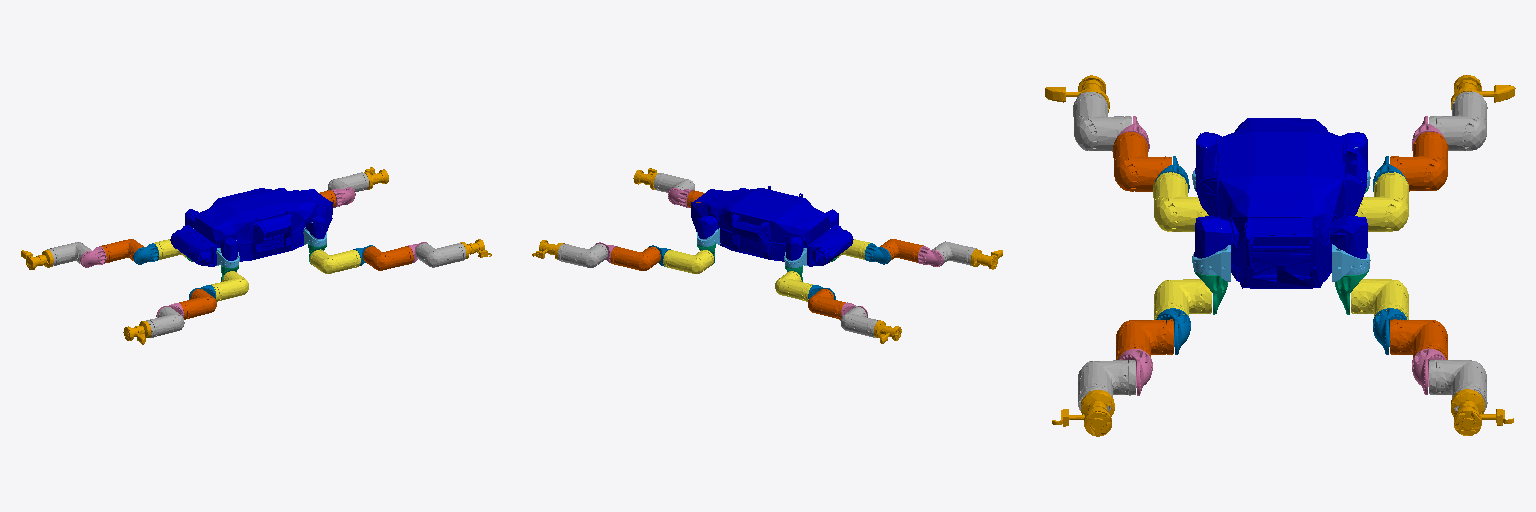
--- Render facts (derived) ---
The picture shows the robot from 3 angles, left to right: view 1: azimuth 30°, elevation 25°; view 2: azimuth 150°, elevation 25°; view 3: azimuth 270°, elevation 25°; orthographic projection.
Model robosimian_caesar with 33 links and 32 joints (28 revolute, 4 fixed), rooted at torso, posed every joint at zero.
Links seen in each view (by area): view 1: torso, limb1_link2, limb1_link4, limb1_link6, limb2_link6, limb2_link2, limb2_link4, limb3_link6, limb3_link4, limb4_link6; view 2: torso, limb4_link2, limb4_link4, limb4_link6, limb3_link6, limb3_link2, limb3_link4, limb2_link6, limb2_link4, limb1_link6; view 3: torso, limb2_link4, limb2_link6, limb3_link6, limb3_link4, limb3_link2, limb2_link2, limb1_link6, limb4_link6, limb4_link4, limb1_link4, limb4_link2 (+13 smaller).
Link boxes in pixels (box(x1,y1,x2,y2)): torso: box(170, 188, 332, 266); limb1_link2: box(310, 249, 360, 273); limb1_link4: box(363, 246, 413, 270); limb1_link6: box(416, 243, 465, 267); limb2_link6: box(146, 307, 184, 337); limb2_link2: box(211, 271, 248, 301); limb2_link4: box(179, 289, 216, 319); limb3_link6: box(47, 242, 91, 266); limb3_link4: box(101, 239, 144, 262); limb4_link6: box(328, 172, 368, 191); torso: box(691, 186, 853, 266); limb4_link2: box(663, 250, 713, 273); limb4_link4: box(610, 247, 660, 270); limb4_link6: box(558, 244, 607, 267); limb3_link6: box(840, 306, 878, 337); limb3_link2: box(775, 271, 812, 301); limb3_link4: box(808, 289, 845, 319); limb2_link6: box(932, 241, 976, 265); limb2_link4: box(880, 239, 923, 262); limb1_link6: box(654, 173, 694, 192); torso: box(1194, 118, 1367, 288); limb2_link4: box(1113, 132, 1171, 191); limb2_link6: box(1073, 92, 1131, 151); limb3_link6: box(1429, 91, 1487, 150); limb3_link4: box(1390, 132, 1448, 191); limb3_link2: box(1355, 172, 1408, 231); limb2_link2: box(1153, 172, 1208, 231); limb1_link6: box(1078, 360, 1135, 411); limb4_link6: box(1429, 360, 1487, 411); limb4_link4: box(1390, 319, 1447, 359); limb1_link4: box(1116, 319, 1173, 359); limb4_link2: box(1351, 279, 1408, 319).
Bounding box of the posed robot: 2.39 × 1.41 × 0.3943 m (x, y, z).
33 mesh visuals loaded from 6 distinct referenced files (6 binary STL).

robot.urdf — robosimian_caesar:
<robot name="robosimian_caesar">
   <link name="torso">
      <inertial>
        <mass value="40.000000" />
        <origin xyz="-0.000820 -0.002060 -0.021800" rpy="0 0 0" />
        <inertia ixx="0.248970" ixy="0.000000" ixz="0.000000" iyy="0.703230" iyz="0.001820" izz="0.772560" />
      </inertial>
      <visual>
        <origin xyz="0 0 0" rpy="3.1415926 0 0" />
        <geometry>
           <mesh filename="stl_0_3/robosim_chassis.stl" scale="1 1 1" />
        </geometry>
        <material name="blue">
	      <color rgba="0 0 .8 1" />
        </material>
      </visual>
      <collision group="default">
        <origin rpy="3.1415926 0 0" xyz="0 0 0"/>
        <geometry>
           <box size="0.257 0.50 0.238"/>
        </geometry>
      </collision>
      <collision group="default">
        <origin rpy="3.1415926 0 0" xyz="0 0 0"/>
        <geometry>
           <box size="0.93 0.230 0.238"/>
        </geometry>
      </collision>
      <collision group="default">
        <origin rpy="3.1415926 0 -0.38153" xyz="0.25393 0.075769 0"/>
        <geometry>
           <box size="0.36257 0.23 0.238"/>
        </geometry>
      </collision>
      <collision group="default">
        <origin rpy="3.1415926 0 0.38153" xyz="-0.25393 0.075769 0"/>
        <geometry>
           <box size="0.36257 0.23 0.238"/>
        </geometry>
      </collision>
      <collision group="default">
        <origin rpy="3.1415926 0 0.38153" xyz="0.25393 -0.075769 0"/>
        <geometry>
           <box size="0.36257 0.23 0.238"/>
        </geometry>
      </collision>
      <collision group="default">
        <origin rpy="3.1415926 0 -0.38153" xyz="-0.25393 -0.075769 0"/>
        <geometry>
           <box size="0.36257 0.23 0.238"/>
        </geometry>
      </collision>
      <collision group="default">
        <origin rpy="3.1415926 -0.383972 0.000000" xyz="0.417050 0.000000 -0.158640"/>
        <geometry>
          <cylinder length="0.144" radius="0.05"/>
        </geometry>
      </collision>
   </link>

   <link name="limb1_link0">
      <inertial>
        <mass value="0.000000" />
        <origin xyz="0.000000 0.000000 0.000000" rpy="0 0 0" />
        <inertia ixx="0.000000" ixy="0.000000" ixz="0.000000" iyy="0.000000" iyz="0.000000" izz="0.000000" />
      </inertial>
      <visual>
        <origin xyz="0.000000 0 0" rpy="0 0 0" />
        <geometry>
           <mesh filename="stl_0_3/robosim_fts.stl" scale="1 1 1" />
        </geometry>
      </visual>
      <collision group="default">
        <origin rpy="3.1415 -1.57080 0" xyz="-.025 0 0"/>
        <geometry>
          <cylinder length="0.145" radius="0.05"/>
        </geometry>
      </collision>
   </link>

   <link name="limb1_link1">
      <inertial>
        <mass value="0.429000" />
        <origin xyz="-0.050402 0.012816 0.000000" rpy="0 0 0" />
        <inertia ixx="0.000741" ixy="-0.000215" ixz="0.000000" iyy="0.002044" iyz="0.000000" izz="0.001885" />
      </inertial>
      <visual>
        <origin xyz="0.000000 0 0" rpy="0 0 0" />
        <geometry>
           <mesh filename="stl_0_3/robosim_pitch_link.stl" scale="1 1 1" />
        </geometry>
      </visual>
      <collision group="default">
        <origin rpy="3.1415 -1.57080 0" xyz="-0.07 0 0"/>
        <geometry>
          <cylinder length="0.07" radius="0.055"/>
        </geometry>
      </collision>
   </link>

   <link name="limb1_link2">
      <inertial>
        <mass value="3.975000" />
        <origin xyz="0.067354 -0.096472 0.000262" rpy="0 0 0" />
        <inertia ixx="0.044712" ixy="-0.030354" ixz="0.000012" iyy="0.033445" iyz="-0.000141" izz="0.074293" />
      </inertial>
      <visual>
        <origin xyz="0.000000 0 0" rpy="0 0 0" />
        <geometry>
           <mesh filename="stl_0_3/robosim_roll_link.stl" scale="1 1 1" />
        </geometry>
      </visual>
      <collision group="default">
        <origin rpy="3.1415 -1.57080 0" xyz="0.065 -0.12 0"/>
        <geometry>
          <cylinder length="0.24" radius="0.055"/>
        </geometry>
      </collision>
      <collision group="default">
        <origin rpy="1.57080 1.57080 0.0" xyz="0.0 -0.035 0"/>
        <geometry>
          <cylinder length="0.075" radius="0.055"/>
        </geometry>
      </collision>
   </link>

   <link name="limb1_link3">
      <inertial>
        <mass value="0.429000" />
        <origin xyz="-0.050402 0.012816 0.000000" rpy="0 0 0" />
        <inertia ixx="0.000741" ixy="-0.000215" ixz="0.000000" iyy="0.002044" iyz="0.000000" izz="0.001885" />
      </inertial>
      <visual>
        <origin xyz="0.000000 0 0" rpy="0 0 0" />
        <geometry>
           <mesh filename="stl_0_3/robosim_pitch_link.stl" scale="1 1 1" />
        </geometry>
      </visual>
      <collision group="default">
        <origin rpy="3.1415 -1.57080 0" xyz="-0.07 0 0"/>
        <geometry>
          <cylinder length="0.07" radius="0.055"/>
        </geometry>
      </collision>
   </link>

   <link name="limb1_link4">
      <inertial>
        <mass value="3.975000" />
        <origin xyz="0.067354 -0.096472 0.000262" rpy="0 0 0" />
        <inertia ixx="0.044712" ixy="-0.030354" ixz="0.000012" iyy="0.033445" iyz="-0.000141" izz="0.074293" />
      </inertial>
      <visual>
        <origin xyz="0.000000 0 0" rpy="0 0 0" />
        <geometry>
           <mesh filename="stl_0_3/robosim_roll_link.stl" scale="1 1 1" />
        </geometry>
      </visual>
      <collision group="default">
        <origin rpy="3.1415 -1.57080 0" xyz="0.065 -0.12 0"/>
        <geometry>
          <cylinder length="0.24" radius="0.055"/>
        </geometry>
      </collision>
      <collision group="default">
        <origin rpy="1.57080 1.57080 0.0" xyz="0.0 -0.035 0"/>
        <geometry>
          <cylinder length="0.075" radius="0.055"/>
        </geometry>
      </collision>
   </link>

   <link name="limb1_link5">
      <inertial>
        <mass value="0.429000" />
        <origin xyz="-0.050402 0.012816 0.000000" rpy="0 0 0" />
        <inertia ixx="0.000741" ixy="-0.000215" ixz="0.000000" iyy="0.002044" iyz="0.000000" izz="0.001885" />
      </inertial>
      <visual>
        <origin xyz="0.000000 0 0" rpy="0 0 0" />
        <geometry>
           <mesh filename="stl_0_3/robosim_pitch_link.stl" scale="1 1 1" />
        </geometry>
      </visual>
      <collision group="default">
        <origin rpy="3.1415 -1.57080 0" xyz="-0.07 0 0"/>
        <geometry>
          <cylinder length="0.07" radius="0.055"/>
        </geometry>
      </collision>
   </link>

   <link name="limb1_link6">
      <inertial>
        <mass value="3.975000" />
        <origin xyz="0.067354 -0.096472 0.000262" rpy="0 0 0" />
        <inertia ixx="0.044712" ixy="-0.030354" ixz="0.000012" iyy="0.033445" iyz="-0.000141" izz="0.074293" />
      </inertial>
      <visual>
        <origin xyz="0.000000 0 0" rpy="0 0 0" />
        <geometry>
           <mesh filename="stl_0_3/robosim_roll_link.stl" scale="1 1 1" />
        </geometry>
      </visual>
      <collision group="default">
        <origin rpy="3.1415 -1.57080 0" xyz="0.065 -0.12 0"/>
        <geometry>
          <cylinder length="0.24" radius="0.055"/>
        </geometry>
      </collision>
      <collision group="default">
        <origin rpy="1.57080 1.57080 0.0" xyz="0.0 -0.035 0"/>
        <geometry>
          <cylinder length="0.075" radius="0.055"/>
        </geometry>
      </collision>
   </link>

   <link name="limb1_link7">
      <inertial>
        <mass value="1.760000" />
        <origin xyz="0.112290 -0.000164 0.000000" rpy="0 0 0" />
        <inertia ixx="0.001913" ixy="-0.000007" ixz="0.000000" iyy="0.006680" iyz="0.000000" izz="0.006125" />
      </inertial>
      <visual>
        <origin xyz="0.000000 0 0" rpy="0 0 0" />
        <geometry>
           <mesh filename="stl_0_3/top_limb.stl" scale="0.001 0.001 0.001" />
        </geometry>
      </visual>
      <collision group="default">
        <origin rpy="3.1415 -1.57080 0" xyz="0.073 0 0"/>
        <geometry>
          <cylinder length="0.146" radius="0.05"/>
        </geometry>
      </collision>
   </link>



   <joint name="limb1_joint0" type="fixed">
      <origin xyz="0.29326 -0.20940 -0.03650"  rpy="0.00000 1.57080 3.1515926" />
      <parent link="torso" />
      <child link="limb1_link0" />
      <axis xyz="0 0 1" />
      <limit effort="1000.0" lower="-3.4906" upper="3.4906" velocity="0.5"/>
      <dynamics damping="0" friction="0"/>
   </joint>

   <joint name="limb1_joint1" type="revolute">
      <origin xyz="0.17203 0.00000 0.00000"  rpy="3.14159 -0.00000 0.00000" />
      <axis xyz="1 0 0" />
      <parent link="limb1_link0" />
      <child link="limb1_link1" />
      <limit effort="1000.0" lower="-3.1415" upper="3.1415" velocity="0.5"/>
      <dynamics damping="1.000000" friction="10.000000"/>
   </joint>

   <joint name="limb1_joint2" type="revolute">
      <origin xyz="0.00000 0.00000 0.00000"  rpy="0.00000 -1.5708 0.00000" />
      <axis xyz="0 -1 0" />
      <parent link="limb1_link1" />
      <child link="limb1_link2" />
      <limit effort="1000.0" lower="-3.1415" upper="3.1415" velocity="0.5"/>
      <dynamics damping="1.000000" friction="10.000000"/>
   </joint>

   <joint name="limb1_joint3" type="revolute">
      <origin xyz="0.28650 -0.11700 0.00000"  rpy="0.00000 -0.00000 0.00000" />
      <axis xyz="1 0 0" />
      <parent link="limb1_link2" />
      <child link="limb1_link3" />
      <limit effort="1000.0" lower="-3.1415" upper="3.1415" velocity="0.5"/>
      <dynamics damping="1.000000" friction="10.000000"/>
   </joint>

   <joint name="limb1_joint4" type="revolute">
      <origin xyz="0.00000 0.00000 0.00000"  rpy="0.00000 -0.00000 0.00000" />
      <axis xyz="0 -1 0" />
      <parent link="limb1_link3" />
      <child link="limb1_link4" />
      <limit effort="1000.0" lower="-3.1415" upper="3.1415" velocity="0.5"/>
      <dynamics damping="1.000000" friction="10.000000"/>
   </joint>

   <joint name="limb1_joint5" type="revolute">
      <origin xyz="0.28650 -0.11700 0.00000"  rpy="0.00000 -0.00000 0.00000" />
      <axis xyz="1 0 0" />
      <parent link="limb1_link4" />
      <child link="limb1_link5" />
      <limit effort="1000.0" lower="-3.1415" upper="3.1415" velocity="0.5"/>
      <dynamics damping="1.000000" friction="10.000000"/>
   </joint>

   <joint name="limb1_joint6" type="revolute">
      <origin xyz="0.00000 0.00000 0.00000"  rpy="0.00000 -0.00000 0.00000" />
      <axis xyz="0 -1 0" />
      <parent link="limb1_link5" />
      <child link="limb1_link6" />
      <limit effort="1000.0" lower="-3.1415" upper="3.1415" velocity="0.5"/>
      <dynamics damping="1.000000" friction="10.000000"/>
   </joint>

   <joint name="limb1_joint7" type="revolute">
      <origin xyz="0.19250 -0.11700 0.00000"  rpy="0.00000 -0.00000 0.00000" />
      <axis xyz="1 0 0" />
      <parent link="limb1_link6" />
      <child link="limb1_link7" />
      <limit effort="1000.0" lower="-3.1415" upper="3.1415" velocity="0.5"/>
      <dynamics damping="1.000000" friction="10.000000"/>
   </joint>



   <link name="limb2_link0">
      <inertial>
        <mass value="0.000000" />
        <origin xyz="0.000000 0.000000 0.000000" rpy="0 0 0" />
        <inertia ixx="0.000000" ixy="0.000000" ixz="0.000000" iyy="0.000000" iyz="0.000000" izz="0.000000" />
      </inertial>
      <visual>
        <origin xyz="0.000000 0 0" rpy="0 0 0" />
        <geometry>
           <mesh filename="stl_0_3/robosim_fts.stl" scale="1 1 1" />
        </geometry>
      </visual>
      <collision group="default">
        <origin rpy="3.1415 -1.57080 0" xyz="-.025 0 0"/>
        <geometry>
          <cylinder length="0.145" radius="0.05"/>
        </geometry>
      </collision>
   </link>

   <link name="limb2_link1">
      <inertial>
        <mass value="0.429000" />
        <origin xyz="-0.050402 0.012816 0.000000" rpy="0 0 0" />
        <inertia ixx="0.000741" ixy="-0.000215" ixz="0.000000" iyy="0.002044" iyz="0.000000" izz="0.001885" />
      </inertial>
      <visual>
        <origin xyz="0.000000 0 0" rpy="0 0 0" />
        <geometry>
           <mesh filename="stl_0_3/robosim_pitch_link.stl" scale="1 1 1" />
        </geometry>
      </visual>
      <collision group="default">
        <origin rpy="3.1415 -1.57080 0" xyz="-0.07 0 0"/>
        <geometry>
          <cylinder length="0.07" radius="0.055"/>
        </geometry>
      </collision>
   </link>

   <link name="limb2_link2">
      <inertial>
        <mass value="3.975000" />
        <origin xyz="0.067354 -0.096472 0.000262" rpy="0 0 0" />
        <inertia ixx="0.044712" ixy="-0.030354" ixz="0.000012" iyy="0.033445" iyz="-0.000141" izz="0.074293" />
      </inertial>
      <visual>
        <origin xyz="0.000000 0 0" rpy="0 0 0" />
        <geometry>
           <mesh filename="stl_0_3/robosim_roll_link.stl" scale="1 1 1" />
        </geometry>
      </visual>
      <collision group="default">
        <origin rpy="3.1415 -1.57080 0" xyz="0.065 -0.12 0"/>
        <geometry>
          <cylinder length="0.24" radius="0.055"/>
        </geometry>
      </collision>
      <collision group="default">
        <origin rpy="1.57080 1.57080 0.0" xyz="0.0 -0.035 0"/>
        <geometry>
          <cylinder length="0.075" radius="0.055"/>
        </geometry>
      </collision>
   </link>

   <link name="limb2_link3">
      <inertial>
        <mass value="0.429000" />
        <origin xyz="-0.050402 0.012816 0.000000" rpy="0 0 0" />
        <inertia ixx="0.000741" ixy="-0.000215" ixz="0.000000" iyy="0.002044" iyz="0.000000" izz="0.001885" />
      </inertial>
      <visual>
        <origin xyz="0.000000 0 0" rpy="0 0 0" />
        <geometry>
           <mesh filename="stl_0_3/robosim_pitch_link.stl" scale="1 1 1" />
        </geometry>
      </visual>
      <collision group="default">
        <origin rpy="3.1415 -1.57080 0" xyz="-0.07 0 0"/>
        <geometry>
          <cylinder length="0.07" radius="0.055"/>
        </geometry>
      </collision>
   </link>

   <link name="limb2_link4">
      <inertial>
        <mass value="3.975000" />
        <origin xyz="0.067354 -0.096472 0.000262" rpy="0 0 0" />
        <inertia ixx="0.044712" ixy="-0.030354" ixz="0.000012" iyy="0.033445" iyz="-0.000141" izz="0.074293" />
      </inertial>
      <visual>
        <origin xyz="0.000000 0 0" rpy="0 0 0" />
        <geometry>
           <mesh filename="stl_0_3/robosim_roll_link.stl" scale="1 1 1" />
        </geometry>
      </visual>
      <collision group="default">
        <origin rpy="3.1415 -1.57080 0" xyz="0.065 -0.12 0"/>
        <geometry>
          <cylinder length="0.24" radius="0.055"/>
        </geometry>
      </collision>
      <collision group="default">
        <origin rpy="1.57080 1.57080 0.0" xyz="0.0 -0.035 0"/>
        <geometry>
          <cylinder length="0.075" radius="0.055"/>
        </geometry>
      </collision>
   </link>

   <link name="limb2_link5">
      <inertial>
        <mass value="0.429000" />
        <origin xyz="-0.050402 0.012816 0.000000" rpy="0 0 0" />
        <inertia ixx="0.000741" ixy="-0.000215" ixz="0.000000" iyy="0.002044" iyz="0.000000" izz="0.001885" />
      </inertial>
      <visual>
        <origin xyz="0.000000 0 0" rpy="0 0 0" />
        <geometry>
           <mesh filename="stl_0_3/robosim_pitch_link.stl" scale="1 1 1" />
        </geometry>
      </visual>
      <collision group="default">
        <origin rpy="3.1415 -1.57080 0" xyz="-0.07 0 0"/>
        <geometry>
          <cylinder length="0.07" radius="0.055"/>
        </geometry>
      </collision>
   </link>

   <link name="limb2_link6">
      <inertial>
        <mass value="3.975000" />
        <origin xyz="0.067354 -0.096472 0.000262" rpy="0 0 0" />
        <inertia ixx="0.044712" ixy="-0.030354" ixz="0.000012" iyy="0.033445" iyz="-0.000141" izz="0.074293" />
      </inertial>
      <visual>
        <origin xyz="0.000000 0 0" rpy="0 0 0" />
        <geometry>
           <mesh filename="stl_0_3/robosim_roll_link.stl" scale="1 1 1" />
        </geometry>
      </visual>
      <collision group="default">
        <origin rpy="3.1415 -1.57080 0" xyz="0.065 -0.12 0"/>
        <geometry>
          <cylinder length="0.24" radius="0.055"/>
        </geometry>
      </collision>
      <collision group="default">
        <origin rpy="1.57080 1.57080 0.0" xyz="0.0 -0.035 0"/>
        <geometry>
          <cylinder length="0.075" radius="0.055"/>
        </geometry>
      </collision>
      <collision group="default">
        <origin rpy="1.57080 1.57080 0.0" xyz="0.0 -0.19 0"/>
        <geometry>
          <cylinder length="0.0375" radius="0.080"/>
        </geometry>
      </collision>
   </link>

   <link name="limb2_link7">
      <inertial>
        <mass value="1.760000" />
        <origin xyz="0.112290 -0.000164 0.000000" rpy="0 0 0" />
        <inertia ixx="0.001913" ixy="-0.000007" ixz="0.000000" iyy="0.006680" iyz="0.000000" izz="0.006125" />
      </inertial>
      <visual>
        <origin xyz="0.000000 0 0" rpy="0 0 0" />
        <geometry>
           <mesh filename="stl_0_3/bottom_limb.stl" scale="0.001 0.001 0.001" />
        </geometry>
      </visual>
      <collision group="default">
        <origin rpy="3.1415 -1.57080 0" xyz="0.073 0 0"/>
        <geometry>
          <cylinder length="0.146" radius="0.05"/>
        </geometry>
      </collision>
   </link>


   <joint name="limb2_joint0" type="fixed">
      <origin xyz="-0.29326 -0.20940 -0.03650"  rpy="0.00000 1.57080 3.1515926" />
      <parent link="torso" />
      <child link="limb2_link0" />
      <axis xyz="0 0 1" />
      <limit effort="1000.0" lower="-3.4906" upper="3.4906" velocity="0.5"/>
      <dynamics damping="0" friction="0"/>
   </joint>

   <joint name="limb2_joint1" type="revolute">
      <origin xyz="0.17203 0.00000 0.00000"  rpy="3.14159 -0.00000 0.00000" />
      <axis xyz="1 0 0" />
      <parent link="limb2_link0" />
      <child link="limb2_link1" />
      <limit effort="1000.0" lower="-3.1415" upper="3.1415" velocity="0.5"/>
      <dynamics damping="1.000000" friction="10.000000"/>
   </joint>

   <joint name="limb2_joint2" type="revolute">
      <origin xyz="0.00000 0.00000 0.00000"  rpy="0.00000 1.57080 0.00000" />
      <axis xyz="0 -1 0" />
      <parent link="limb2_link1" />
      <child link="limb2_link2" />
      <limit effort="1000.0" lower="-3.1415" upper="3.1415" velocity="0.5"/>
      <dynamics damping="1.000000" friction="10.000000"/>
   </joint>

   <joint name="limb2_joint3" type="revolute">
      <origin xyz="0.28650 -0.11700 0.00000"  rpy="0.00000 -0.00000 0.00000" />
      <axis xyz="1 0 0" />
      <parent link="limb2_link2" />
      <child link="limb2_link3" />
      <limit effort="1000.0" lower="-3.1415" upper="3.1415" velocity="0.5"/>
      <dynamics damping="1.000000" friction="10.000000"/>
   </joint>

   <joint name="limb2_joint4" type="revolute">
      <origin xyz="0.00000 0.00000 0.00000"  rpy="0.00000 -0.00000 0.00000" />
      <axis xyz="0 -1 0" />
      <parent link="limb2_link3" />
      <child link="limb2_link4" />
      <limit effort="1000.0" lower="-3.1415" upper="3.1415" velocity="0.5"/>
      <dynamics damping="1.000000" friction="10.000000"/>
   </joint>

   <joint name="limb2_joint5" type="revolute">
      <origin xyz="0.28650 -0.11700 0.00000"  rpy="0.00000 -0.00000 0.00000" />
      <axis xyz="1 0 0" />
      <parent link="limb2_link4" />
      <child link="limb2_link5" />
      <limit effort="1000.0" lower="-3.1415" upper="3.1415" velocity="0.5"/>
      <dynamics damping="1.000000" friction="10.000000"/>
   </joint>

   <joint name="limb2_joint6" type="revolute">
      <origin xyz="0.00000 0.00000 0.00000"  rpy="0.00000 -0.00000 0.00000" />
      <axis xyz="0 -1 0" />
      <parent link="limb2_link5" />
      <child link="limb2_link6" />
      <limit effort="1000.0" lower="-3.1415" upper="3.1415" velocity="0.5"/>
      <dynamics damping="1.000000" friction="10.000000"/>
   </joint>

   <joint name="limb2_joint7" type="revolute">
      <origin xyz="0.19250 -0.11700 0.00000"  rpy="0.00000 -0.00000 0.00000" />
      <axis xyz="1 0 0" />
      <parent link="limb2_link6" />
      <child link="limb2_link7" />
      <limit effort="1000.0" lower="-3.1415" upper="3.1415" velocity="0.5"/>
      <dynamics damping="1.000000" friction="10.000000"/>
   </joint>




   <link name="limb3_link0">
      <inertial>
        <mass value="0.000000" />
        <origin xyz="0.000000 0.000000 0.000000" rpy="0 0 0" />
        <inertia ixx="0.000000" ixy="0.000000" ixz="0.000000" iyy="0.000000" iyz="0.000000" izz="0.000000" />
      </inertial>
      <visual>
        <origin xyz="0.000000 0 0" rpy="0 0 0" />
        <geometry>
           <mesh filename="stl_0_3/robosim_fts.stl" scale="1 1 1" />
        </geometry>
      </visual>
      <collision group="default">
        <origin rpy="3.1415 -1.57080 0" xyz="-.025 0 0"/>
        <geometry>
          <cylinder length="0.145" radius="0.05"/>
        </geometry>
      </collision>
   </link>

   <link name="limb3_link1">
      <inertial>
        <mass value="0.429000" />
        <origin xyz="-0.050402 0.012816 0.000000" rpy="0 0 0" />
        <inertia ixx="0.000741" ixy="-0.000215" ixz="0.000000" iyy="0.002044" iyz="0.000000" izz="0.001885" />
      </inertial>
      <visual>
        <origin xyz="0.000000 0 0" rpy="0 0 0" />
        <geometry>
           <mesh filename="stl_0_3/robosim_pitch_link.stl" scale="1 1 1" />
        </geometry>
      </visual>
      <collision group="default">
        <origin rpy="3.1415 -1.57080 0" xyz="-0.07 0 0"/>
        <geometry>
          <cylinder length="0.07" radius="0.055"/>
        </geometry>
      </collision>
   </link>

   <link name="limb3_link2">
      <inertial>
        <mass value="3.975000" />
        <origin xyz="0.067354 -0.096472 0.000262" rpy="0 0 0" />
        <inertia ixx="0.044712" ixy="-0.030354" ixz="0.000012" iyy="0.033445" iyz="-0.000141" izz="0.074293" />
      </inertial>
      <visual>
        <origin xyz="0.000000 0 0" rpy="0 0 0" />
        <geometry>
           <mesh filename="stl_0_3/robosim_roll_link.stl" scale="1 1 1" />
        </geometry>
      </visual>
      <collision group="default">
        <origin rpy="3.1415 -1.57080 0" xyz="0.065 -0.12 0"/>
        <geometry>
          <cylinder length="0.24" radius="0.055"/>
        </geometry>
      </collision>
      <collision group="default">
        <origin rpy="1.57080 1.57080 0.0" xyz="0.0 -0.035 0"/>
        <geometry>
          <cylinder length="0.075" radius="0.055"/>
        </geometry>
      </collision>
   </link>

   <link name="limb3_link3">
      <inertial>
        <mass value="0.429000" />
        <origin xyz="-0.050402 0.012816 0.000000" rpy="0 0 0" />
        <inertia ixx="0.000741" ixy="-0.000215" ixz="0.000000" iyy="0.002044" iyz="0.000000" izz="0.001885" />
      </inertial>
      <visual>
        <origin xyz="0.000000 0 0" rpy="0 0 0" />
        <geometry>
           <mesh filename="stl_0_3/robosim_pitch_link.stl" scale="1 1 1" />
        </geometry>
      </visual>
      <collision group="default">
        <origin rpy="3.1415 -1.57080 0" xyz="-0.07 0 0"/>
        <geometry>
          <cylinder length="0.07" radius="0.055"/>
        </geometry>
      </collision>
   </link>

   <link name="limb3_link4">
      <inertial>
        <mass value="3.975000" />
        <origin xyz="0.067354 -0.096472 0.000262" rpy="0 0 0" />
        <inertia ixx="0.044712" ixy="-0.030354" ixz="0.000012" iyy="0.033445" iyz="-0.000141" izz="0.074293" />
      </inertial>
      <visual>
        <origin xyz="0.000000 0 0" rpy="0 0 0" />
        <geometry>
           <mesh filename="stl_0_3/robosim_roll_link.stl" scale="1 1 1" />
        </geometry>
      </visual>
      <collision group="default">
        <origin rpy="3.1415 -1.57080 0" xyz="0.065 -0.12 0"/>
        <geometry>
          <cylinder length="0.24" radius="0.055"/>
        </geometry>
      </collision>
      <collision group="default">
        <origin rpy="1.57080 1.57080 0.0" xyz="0.0 -0.035 0"/>
        <geometry>
          <cylinder length="0.075" radius="0.055"/>
        </geometry>
      </collision>
   </link>

   <link name="limb3_link5">
      <inertial>
        <mass value="0.429000" />
        <origin xyz="-0.050402 0.012816 0.000000" rpy="0 0 0" />
        <inertia ixx="0.000741" ixy="-0.000215" ixz="0.000000" iyy="0.002044" iyz="0.000000" izz="0.001885" />
      </inertial>
      <visual>
        <origin xyz="0.000000 0 0" rpy="0 0 0" />
        <geometry>
           <mesh filename="stl_0_3/robosim_pitch_link.stl" scale="1 1 1" />
        </geometry>
      </visual>
      <collision group="default">
        <origin rpy="3.1415 -1.57080 0" xyz="-0.07 0 0"/>
        <geometry>
          <cylinder length="0.07" radius="0.055"/>
        </geometry>
      </collision>
   </link>

   <link name="limb3_link6">
      <inertial>
        <mass value="3.975000" />
        <origin xyz="0.067354 -0.096472 0.000262" rpy="0 0 0" />
        <inertia ixx="0.044712" ixy="-0.030354" ixz="0.000012" iyy="0.033445" iyz="-0.000141" izz="0.074293" />
      </inertial>
      <visual>
        <origin xyz="0.000000 0 0" rpy="0 0 0" />
        <geometry>
           <mesh filename="stl_0_3/robosim_roll_link.stl" scale="1 1 1" />
        </geometry>
      </visual>
      <collision group="default">
        <origin rpy="3.1415 -1.57080 0" xyz="0.065 -0.12 0"/>
        <geometry>
          <cylinder length="0.24" radius="0.055"/>
        </geometry>
      </collision>
      <collision group="default">
        <origin rpy="1.57080 1.57080 0.0" xyz="0.0 -0.035 0"/>
        <geometry>
          <cylinder length="0.075" radius="0.055"/>
        </geometry>
      </collision>
      <collision group="default">
        <origin rpy="1.57080 1.57080 0.0" xyz="0.0 -0.19 0"/>
        <geometry>
          <cylinder length="0.0375" radius="0.080"/>
        </geometry>
      </collision>
   </link>

   <link name="limb3_link7">
      <inertial>
        <mass value="1.760000" />
        <origin xyz="0.112290 -0.000164 0.000000" rpy="0 0 0" />
        <inertia ixx="0.001913" ixy="-0.000007" ixz="0.000000" iyy="0.006680" iyz="0.000000" izz="0.006125" />
      </inertial>
      <visual>
        <origin xyz="0.000000 0 0" rpy="0 0 0" />
        <geometry>
           <mesh filename="stl_0_3/bottom_limb.stl" scale="0.001 0.001 0.001" />
        </geometry>
      </visual>
      <collision group="default">
        <origin rpy="3.1415 -1.57080 0" xyz="0.073 0 0"/>
        <geometry>
          <cylinder length="0.146" radius="0.05"/>
        </geometry>
      </collision>
   </link>


   <joint name="limb3_joint0" type="fixed">
      <origin xyz="-0.29326 0.20940 -0.03650"  rpy="0.00000 1.57080 0" />
      <parent link="torso" />
      <child link="limb3_link0" />
      <axis xyz="0 0 1" />
      <limit effort="1000.0" lower="-3.4906" upper="3.4906" velocity="0.5"/>
      <dynamics damping="0" friction="0"/>
   </joint>

   <joint name="limb3_joint1" type="revolute">
      <origin xyz="0.17203 0.00000 0.00000"  rpy="3.14159 -0.00000 0.00000" />
      <axis xyz="1 0 0" />
      <parent link="limb3_link0" />
      <child link="limb3_link1" />
      <limit effort="1000.0" lower="-3.1415" upper="3.1415" velocity="0.5"/>
      <dynamics damping="1.000000" friction="10.000000"/>
   </joint>

   <joint name="limb3_joint2" type="revolute">
      <origin xyz="0.00000 0.00000 0.00000"  rpy="0.00000 -1.5708 0.00000" />
      <axis xyz="0 -1 0" />
      <parent link="limb3_link1" />
      <child link="limb3_link2" />
      <limit effort="1000.0" lower="-3.1415" upper="3.1415" velocity="0.5"/>
      <dynamics damping="1.000000" friction="10.000000"/>
   </joint>

   <joint name="limb3_joint3" type="revolute">
      <origin xyz="0.28650 -0.11700 0.00000"  rpy="0.00000 -0.00000 0.00000" />
      <axis xyz="1 0 0" />
      <parent link="limb3_link2" />
      <child link="limb3_link3" />
      <limit effort="1000.0" lower="-3.1415" upper="3.1415" velocity="0.5"/>
      <dynamics damping="1.000000" friction="10.000000"/>
   </joint>

   <joint name="limb3_joint4" type="revolute">
      <origin xyz="0.00000 0.00000 0.00000"  rpy="0.00000 -0.00000 0.00000" />
      <axis xyz="0 -1 0" />
      <parent link="limb3_link3" />
      <child link="limb3_link4" />
      <limit effort="1000.0" lower="-3.1415" upper="3.1415" velocity="0.5"/>
      <dynamics damping="1.000000" friction="10.000000"/>
   </joint>

   <joint name="limb3_joint5" type="revolute">
      <origin xyz="0.28650 -0.11700 0.00000"  rpy="0.00000 -0.00000 0.00000" />
      <axis xyz="1 0 0" />
      <parent link="limb3_link4" />
      <child link="limb3_link5" />
      <limit effort="1000.0" lower="-3.1415" upper="3.1415" velocity="0.5"/>
      <dynamics damping="1.000000" friction="10.000000"/>
   </joint>

   <joint name="limb3_joint6" type="revolute">
      <origin xyz="0.00000 0.00000 0.00000"  rpy="0.00000 -0.00000 0.00000" />
      <axis xyz="0 -1 0" />
      <parent link="limb3_link5" />
      <child link="limb3_link6" />
      <limit effort="1000.0" lower="-3.1415" upper="3.1415" velocity="0.5"/>
      <dynamics damping="1.000000" friction="10.000000"/>
   </joint>

   <joint name="limb3_joint7" type="revolute">
      <origin xyz="0.19250 -0.11700 0.00000"  rpy="0.00000 -0.00000 0.00000" />
      <axis xyz="1 0 0" />
      <parent link="limb3_link6" />
      <child link="limb3_link7" />
      <limit effort="1000.0" lower="-3.1415" upper="3.1415" velocity="0.5"/>
      <dynamics damping="1.000000" friction="10.000000"/>
   </joint>



   <link name="limb4_link0">
      <inertial>
        <mass value="0.000000" />
        <origin xyz="0.000000 0.000000 0.000000" rpy="0 0 0" />
        <inertia ixx="0.000000" ixy="0.000000" ixz="0.000000" iyy="0.000000" iyz="0.000000" izz="0.000000" />
      </inertial>
      <visual>
        <origin xyz="0.000000 0 0" rpy="0 0 0" />
        <geometry>
           <mesh filename="stl_0_3/robosim_fts.stl" scale="1 1 1" />
        </geometry>
      </visual>
      <collision group="default">
        <origin rpy="3.1415 -1.57080 0" xyz="-.025 0 0"/>
        <geometry>
          <cylinder length="0.145" radius="0.05"/>
        </geometry>
      </collision>
   </link>

   <link name="limb4_link1">
      <inertial>
        <mass value="0.429000" />
        <origin xyz="-0.050402 0.012816 0.000000" rpy="0 0 0" />
        <inertia ixx="0.000741" ixy="-0.000215" ixz="0.000000" iyy="0.002044" iyz="0.000000" izz="0.001885" />
      </inertial>
      <visual>
        <origin xyz="0.000000 0 0" rpy="0 0 0" />
        <geometry>
           <mesh filename="stl_0_3/robosim_pitch_link.stl" scale="1 1 1" />
        </geometry>
      </visual>
      <collision group="default">
        <origin rpy="3.1415 -1.57080 0" xyz="-0.07 0 0"/>
        <geometry>
          <cylinder length="0.07" radius="0.055"/>
        </geometry>
      </collision>
   </link>

   <link name="limb4_link2">
      <inertial>
        <mass value="3.975000" />
        <origin xyz="0.067354 -0.096472 0.000262" rpy="0 0 0" />
        <inertia ixx="0.044712" ixy="-0.030354" ixz="0.000012" iyy="0.033445" iyz="-0.000141" izz="0.074293" />
      </inertial>
      <visual>
        <origin xyz="0.000000 0 0" rpy="0 0 0" />
        <geometry>
           <mesh filename="stl_0_3/robosim_roll_link.stl" scale="1 1 1" />
        </geometry>
      </visual>
      <collision group="default">
        <origin rpy="3.1415 -1.57080 0" xyz="0.065 -0.12 0"/>
        <geometry>
          <cylinder length="0.24" radius="0.055"/>
        </geometry>
      </collision>
      <collision group="default">
        <origin rpy="1.57080 1.57080 0.0" xyz="0.0 -0.035 0"/>
        <geometry>
          <cylinder length="0.075" radius="0.055"/>
        </geometry>
      </collision>
   </link>

   <link name="limb4_link3">
      <inertial>
        <mass value="0.429000" />
        <origin xyz="-0.050402 0.012816 0.000000" rpy="0 0 0" />
        <inertia ixx="0.000741" ixy="-0.000215" ixz="0.000000" iyy="0.002044" iyz="0.000000" izz="0.001885" />
      </inertial>
      <visual>
        <origin xyz="0.000000 0 0" rpy="0 0 0" />
        <geometry>
           <mesh filename="stl_0_3/robosim_pitch_link.stl" scale="1 1 1" />
        </geometry>
      </visual>
      <collision group="default">
        <origin rpy="3.1415 -1.57080 0" xyz="-0.07 0 0"/>
        <geometry>
          <cylinder length="0.07" radius="0.055"/>
        </geometry>
      </collision>
   </link>

   <link name="limb4_link4">
      <inertial>
        <mass value="3.975000" />
        <origin xyz="0.067354 -0.096472 0.000262" rpy="0 0 0" />
        <inertia ixx="0.044712" ixy="-0.030354" ixz="0.000012" iyy="0.033445" iyz="-0.000141" izz="0.074293" />
      </inertial>
      <visual>
        <origin xyz="0.000000 0 0" rpy="0 0 0" />
        <geometry>
           <mesh filename="stl_0_3/robosim_roll_link.stl" scale="1 1 1" />
        </geometry>
      </visual>
      <collision group="default">
        <origin rpy="3.1415 -1.57080 0" xyz="0.065 -0.12 0"/>
        <geometry>
          <cylinder length="0.24" radius="0.055"/>
        </geometry>
      </collision>
      <collision group="default">
        <origin rpy="1.57080 1.57080 0.0" xyz="0.0 -0.035 0"/>
        <geometry>
          <cylinder length="0.075" radius="0.055"/>
        </geometry>
      </collision>
   </link>

   <link name="limb4_link5">
      <inertial>
        <mass value="0.429000" />
        <origin xyz="-0.050402 0.012816 0.000000" rpy="0 0 0" />
        <inertia ixx="0.000741" ixy="-0.000215" ixz="0.000000" iyy="0.002044" iyz="0.000000" izz="0.001885" />
      </inertial>
      <visual>
        <origin xyz="0.000000 0 0" rpy="0 0 0" />
        <geometry>
           <mesh filename="stl_0_3/robosim_pitch_link.stl" scale="1 1 1" />
        </geometry>
      </visual>
      <collision group="default">
        <origin rpy="3.1415 -1.57080 0" xyz="-0.07 0 0"/>
        <geometry>
          <cylinder length="0.07" radius="0.055"/>
        </geometry>
      </collision>
   </link>

   <link name="limb4_link6">
      <inertial>
        <mass value="3.975000" />
        <origin xyz="0.067354 -0.096472 0.000262" rpy="0 0 0" />
        <inertia ixx="0.044712" ixy="-0.030354" ixz="0.000012" iyy="0.033445" iyz="-0.000141" izz="0.074293" />
      </inertial>
      <visual>
        <origin xyz="0.000000 0 0" rpy="0 0 0" />
        <geometry>
           <mesh filename="stl_0_3/robosim_roll_link.stl" scale="1 1 1" />
        </geometry>
      </visual>
      <collision group="default">
        <origin rpy="3.1415 -1.57080 0" xyz="0.065 -0.12 0"/>
        <geometry>
          <cylinder length="0.24" radius="0.055"/>
        </geometry>
      </collision>
      <collision group="default">
        <origin rpy="1.57080 1.57080 0.0" xyz="0.0 -0.035 0"/>
        <geometry>
          <cylinder length="0.075" radius="0.055"/>
        </geometry>
      </collision>
   </link>


   <link name="limb4_link7">
      <inertial>
        <mass value="1.760000" />
        <origin xyz="0.112290 -0.000164 0.000000" rpy="0 0 0" />
        <inertia ixx="0.001913" ixy="-0.000007" ixz="0.000000" iyy="0.006680" iyz="0.000000" izz="0.006125" />
      </inertial>
      <visual>
        <origin xyz="0.000000 0 0" rpy="0 0 0" />
        <geometry>
           <mesh filename="stl_0_3/top_limb.stl" scale="0.001 0.001 0.001" />
        </geometry>
      </visual>
      <collision group="default">
        <origin rpy="3.1415 -1.57080 0" xyz="0.073 0 0"/>
        <geometry>
          <cylinder length="0.146" radius="0.05"/>
        </geometry>
      </collision>
   </link>


   <joint name="limb4_joint0" type="fixed">
      <origin xyz="0.29326 0.20940 -0.03650"  rpy="0.00000 1.57080 0" />
      <parent link="torso" />
      <child link="limb4_link0" />
      <axis xyz="0 0 1" />
      <limit effort="1000.0" lower="-3.4906" upper="3.4906" velocity="0.5"/>
      <dynamics damping="0" friction="0"/>
   </joint>

   <joint name="limb4_joint1" type="revolute">
      <origin xyz="0.17203 0.00000 0.00000"  rpy="3.14159 -0.00000 0.00000" />
      <axis xyz="1 0 0" />
      <parent link="limb4_link0" />
      <child link="limb4_link1" />
      <limit effort="1000.0" lower="-3.1415" upper="3.1415" velocity="0.5"/>
      <dynamics damping="1.000000" friction="10.000000"/>
   </joint>

   <joint name="limb4_joint2" type="revolute">
      <origin xyz="0.00000 0.00000 0.00000"  rpy="0.00000 1.5708 0.00000" />
      <axis xyz="0 -1 0" />
      <parent link="limb4_link1" />
      <child link="limb4_link2" />
      <limit effort="1000.0" lower="-3.1415" upper="3.1415" velocity="0.5"/>
      <dynamics damping="1.000000" friction="10.000000"/>
   </joint>

   <joint name="limb4_joint3" type="revolute">
      <origin xyz="0.28650 -0.11700 0.00000"  rpy="0.00000 -0.00000 0.00000" />
      <axis xyz="1 0 0" />
      <parent link="limb4_link2" />
      <child link="limb4_link3" />
      <limit effort="1000.0" lower="-3.1415" upper="3.1415" velocity="0.5"/>
      <dynamics damping="1.000000" friction="10.000000"/>
   </joint>

   <joint name="limb4_joint4" type="revolute">
      <origin xyz="0.00000 0.00000 0.00000"  rpy="0.00000 -0.00000 0.00000" />
      <axis xyz="0 -1 0" />
      <parent link="limb4_link3" />
      <child link="limb4_link4" />
      <limit effort="1000.0" lower="-3.1415" upper="3.1415" velocity="0.5"/>
      <dynamics damping="1.000000" friction="10.000000"/>
   </joint>

   <joint name="limb4_joint5" type="revolute">
      <origin xyz="0.28650 -0.11700 0.00000"  rpy="0.00000 -0.00000 0.00000" />
      <axis xyz="1 0 0" />
      <parent link="limb4_link4" />
      <child link="limb4_link5" />
      <limit effort="1000.0" lower="-3.1415" upper="3.1415" velocity="0.5"/>
      <dynamics damping="1.000000" friction="10.000000"/>
   </joint>

   <joint name="limb4_joint6" type="revolute">
      <origin xyz="0.00000 0.00000 0.00000"  rpy="0.00000 -0.00000 0.00000" />
      <axis xyz="0 -1 0" />
      <parent link="limb4_link5" />
      <child link="limb4_link6" />
      <limit effort="1000.0" lower="-3.1415" upper="3.1415" velocity="0.5"/>
      <dynamics damping="1.000000" friction="10.000000"/>
   </joint>


   <joint name="limb4_joint7" type="revolute">
      <origin xyz="0.19250 -0.11700 0.00000"  rpy="0.00000 -0.00000 0.00000" />
      <axis xyz="1 0 0" />
      <parent link="limb4_link6" />
      <child link="limb4_link7" />
      <limit effort="1000.0" lower="-3.1415" upper="3.1415" velocity="0.5"/>
      <dynamics damping="1.000000" friction="10.000000"/>
   </joint>






  <klampt package_root="../.." flip_yz="0" use_vis_geom="1" default_acc_max="2">
  <link name="limb1_link1" servoP="10000" servoD="10" servoI="20" dryFriction="2" viscousFriction="2" accMax="8"/>
  <link name="limb1_link2" servoP="10000" servoD="10" servoI="20" dryFriction="2" viscousFriction="2" accMax="8"/>
  <link name="limb1_link3" servoP="10000" servoD="10" servoI="20" dryFriction="2" viscousFriction="2" accMax="8"/>
  <link name="limb1_link4" servoP="10000" servoD="10" servoI="20" dryFriction="2" viscousFriction="2" accMax="8"/>
  <link name="limb1_link5" servoP="10000" servoD="10" servoI="20" dryFriction="2" viscousFriction="2" accMax="8"/>
  <link name="limb1_link6" servoP="10000" servoD="10" servoI="20" dryFriction="2" viscousFriction="2" accMax="8"/>
  <link name="limb1_link7" servoP="100" servoD="1" servoI="20" dryFriction="2" viscousFriction="2" accMax="8"/>
  <link name="limb2_link1" servoP="10000" servoD="10" servoI="20" dryFriction="2" viscousFriction="2" accMax="8"/>
  <link name="limb2_link2" servoP="10000" servoD="10" servoI="20" dryFriction="2" viscousFriction="2" accMax="8"/>
  <link name="limb2_link3" servoP="10000" servoD="10" servoI="20" dryFriction="2" viscousFriction="2" accMax="8"/>
  <link name="limb2_link4" servoP="10000" servoD="10" servoI="20" dryFriction="2" viscousFriction="2" accMax="8"/>
  <link name="limb2_link5" servoP="10000" servoD="10" servoI="20" dryFriction="2" viscousFriction="2" accMax="8"/>
  <link name="limb2_link6" servoP="10000" servoD="10" servoI="20" dryFriction="2" viscousFriction="2" accMax="8"/>
  <link name="limb2_link7" servoP="100" servoD="1" servoI="20" dryFriction="2" viscousFriction="2" accMax="8"/>
  <link name="limb3_link1" servoP="10000" servoD="10" servoI="20" dryFriction="2" viscousFriction="2" accMax="8"/>
  <link name="limb3_link2" servoP="10000" servoD="10" servoI="20" dryFriction="2" viscousFriction="2" accMax="8"/>
  <link name="limb3_link3" servoP="10000" servoD="10" servoI="20" dryFriction="2" viscousFriction="2" accMax="8"/>
  <link name="limb3_link4" servoP="10000" servoD="10" servoI="20" dryFriction="2" viscousFriction="2" accMax="8"/>
  <link name="limb3_link5" servoP="10000" servoD="10" servoI="20" dryFriction="2" viscousFriction="2" accMax="8"/>
  <link name="limb3_link6" servoP="10000" servoD="10" servoI="20" dryFriction="2" viscousFriction="2" accMax="8"/>
  <link name="limb3_link7" servoP="100" servoD="1" servoI="20" dryFriction="2" viscousFriction="2" accMax="8"/>
  <link name="limb4_link1" servoP="10000" servoD="10" servoI="20" dryFriction="2" viscousFriction="2" accMax="8"/>
  <link name="limb4_link2" servoP="10000" servoD="10" servoI="20" dryFriction="2" viscousFriction="2" accMax="8"/>
  <link name="limb4_link3" servoP="10000" servoD="10" servoI="20" dryFriction="2" viscousFriction="2" accMax="8"/>
  <link name="limb4_link4" servoP="10000" servoD="10" servoI="20" dryFriction="2" viscousFriction="2" accMax="8"/>
  <link name="limb4_link5" servoP="10000" servoD="10" servoI="20" dryFriction="2" viscousFriction="2" accMax="8"/>
  <link name="limb4_link6" servoP="10000" servoD="10" servoI="20" dryFriction="2" viscousFriction="2" accMax="8"/>
  <link name="limb4_link7" servoP="100" servoD="1" servoI="20" dryFriction="2" viscousFriction="2" accMax="8"/>

  <!-- body  -->
  <noselfcollision group1 = "torso" group2 = "limb1_link0 limb1_link1   limb2_link0 limb2_link0  limb3_link0 limb3_link1  limb4_link0 limb1_link1" />
  <!-- limb vs limb -->
  <noselfcollision group1 = "limb1_link0 limb1_link1 limb1_link2" group2 = "limb2_link0 limb2_link1 limb2_link2" />
  <noselfcollision group1 = "limb1_link0 limb1_link1 limb1_link2" group2 = "limb3_link0 limb3_link1 limb3_link2" />
  <noselfcollision group1 = "limb1_link0 limb1_link1 limb1_link2" group2 = "limb4_link0 limb4_link1 limb4_link2" />
  <noselfcollision group1 = "limb2_link0 limb2_link1 limb2_link2" group2 = "limb3_link0 limb3_link1 limb3_link2" />
  <noselfcollision group1 = "limb2_link0 limb2_link1 limb2_link2" group2 = "limb4_link0 limb4_link1 limb4_link2" />
  <noselfcollision group1 = "limb3_link0 limb3_link1 limb3_link2" group2 = "limb4_link0 limb4_link1 limb4_link2" />
  <noselfcollision group1 = "limb1_link3" group2 = "limb2_link0 limb2_link1 limb3_link0 limb3_link1 limb4_link0 limb4_link1" />
  <noselfcollision group1 = "limb2_link3" group2 = "limb1_link3 limb1_link4 limb3_link0 limb3_link1 limb4_link0 limb4_link1" />
  <noselfcollision group1 = "limb3_link3" group2 = "limb1_link0 limb1_link1 limb2_link0 limb2_link1 limb4_link0 limb4_link2" />
  <noselfcollision group1 = "limb4_link3" group2 = "limb1_link0 limb1_link1 limb2_link0 limb2_link1 limb4_link0 limb4_link2" />
  <!-- limb 1 -->
  <noselfcollision pairs = "limb1_link0 limb1_link2 limb1_link0 limb1_link3 limb1_link0 limb1_link4 limb1_link0 limb1_link5    limb1_link1 limb1_link3 limb1_link1 limb1_link4 limb1_link1 limb1_link5    limb1_link2 limb1_link4 limb1_link2 limb1_link5   limb1_link3 limb1_link5 limb1_link3 limb1_link6 limb1_link3 limb1_link7    limb1_link4 limb1_link6   limb1_link4 limb1_link7"/>
  <!-- limb 2 -->
  <noselfcollision pairs = "limb2_link0 limb2_link2 limb2_link0 limb2_link3 limb2_link0 limb2_link4 limb2_link0 limb2_link5    limb2_link1 limb2_link3 limb2_link1 limb2_link4 limb2_link1 limb2_link5    limb2_link2 limb2_link4 limb2_link2 limb2_link5   limb2_link3 limb2_link5 limb2_link3 limb2_link6 limb2_link3 limb2_link7    limb2_link4 limb2_link6   limb2_link4 limb2_link7"/>
  <!-- limb 3 -->
  <noselfcollision pairs = "limb3_link0 limb3_link2 limb3_link0 limb3_link3 limb3_link0 limb3_link4 limb3_link0 limb3_link5    limb3_link1 limb3_link3 limb3_link1 limb3_link4 limb3_link1 limb3_link5    limb3_link2 limb3_link4 limb3_link2 limb3_link5   limb3_link3 limb3_link5 limb3_link3 limb3_link6 limb3_link3 limb3_link7    limb3_link4 limb3_link6   limb3_link4 limb3_link7"/>
  <!-- limb 4 -->
  <noselfcollision pairs = "limb4_link0 limb4_link2 limb4_link0 limb4_link3 limb4_link0 limb4_link4 limb4_link0 limb4_link5    limb4_link1 limb4_link3 limb4_link1 limb4_link4 limb4_link1 limb4_link5    limb4_link2 limb4_link4 limb4_link2 limb4_link5   limb4_link3 limb4_link5 limb4_link3 limb4_link6 limb4_link3 limb4_link7    limb4_link4 limb4_link6   limb4_link4 limb4_link7"/>
  </klampt>

</robot>
